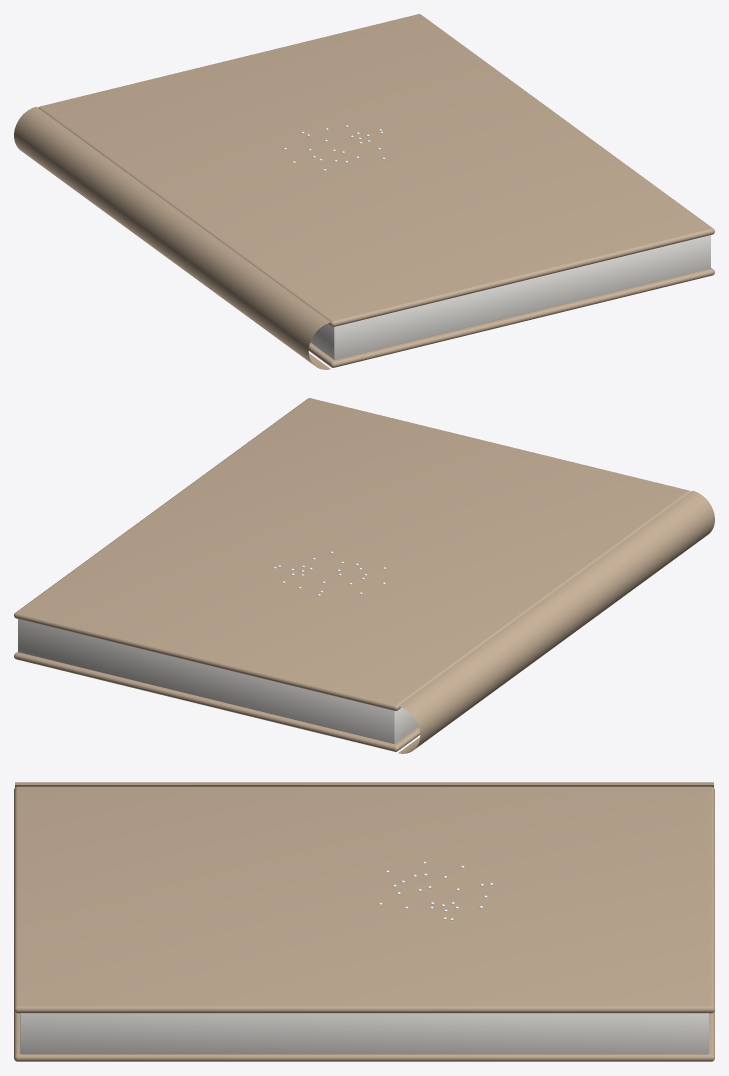
Rendered from swarovski-cluster--portrait.glb.
3 renders of one model, top to bottom at view 1: azimuth 30°, elevation 25°; view 2: azimuth 150°, elevation 25°; view 3: azimuth 270°, elevation 25°, orthographic. The views are drawn at different scales.
Visible parts, largest first — view 1: CoverFront, Spine, Pages, CoverBack; view 2: CoverFront, Spine, Pages, CoverBack; view 3: CoverFront, Pages, CoverBack, Spine.
Boxes of the visible parts, box(x1,y1,x2,y2) form: CoverFront: box(38, 14, 714, 326); Spine: box(14, 106, 330, 369); Pages: box(310, 235, 710, 359); CoverBack: box(308, 268, 714, 367); CoverFront: box(14, 398, 690, 710); Spine: box(398, 490, 714, 753); Pages: box(18, 619, 418, 743); CoverBack: box(14, 652, 420, 751); CoverFront: box(14, 786, 714, 1013); Pages: box(20, 1013, 708, 1054); CoverBack: box(14, 1011, 714, 1061); Spine: box(15, 782, 713, 787).
Bounding box in the file's own units: 0.3179 × 0.036 × 0.4.
